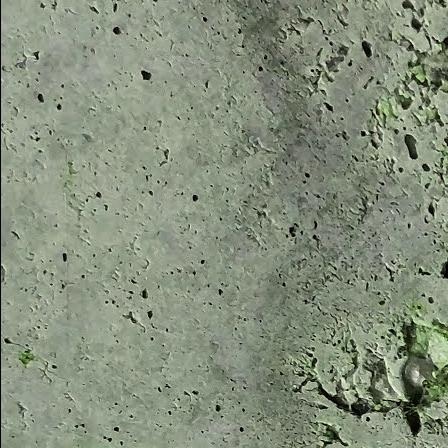spalling: (288, 315, 447, 442), (361, 30, 447, 153)
